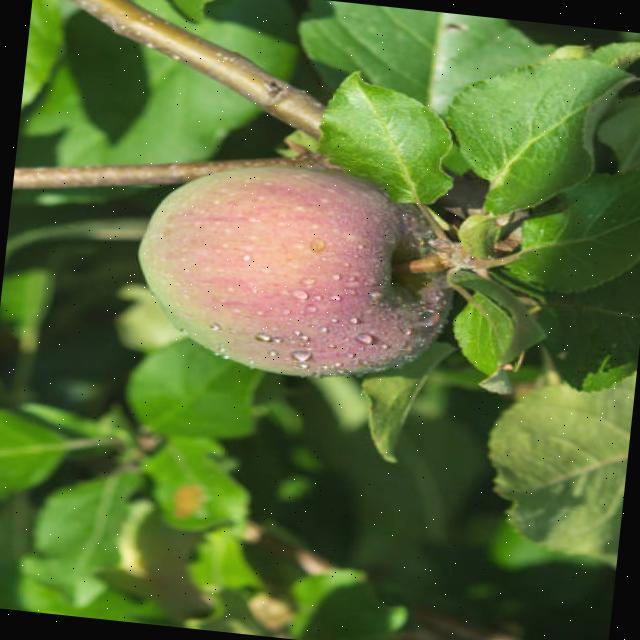Unripe: (128, 148, 466, 390)
